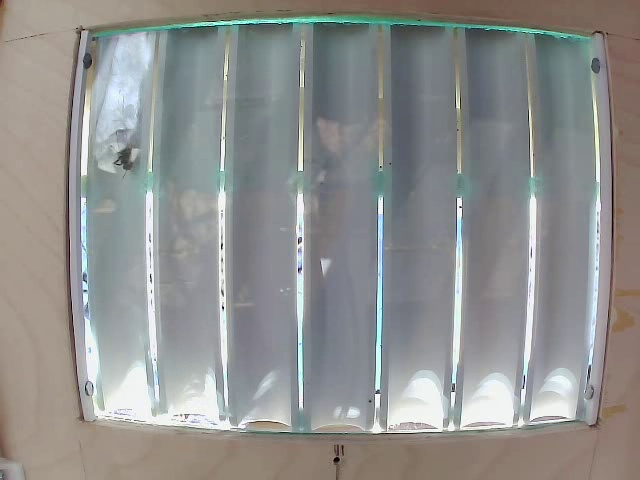bee: (117, 122, 152, 183)
